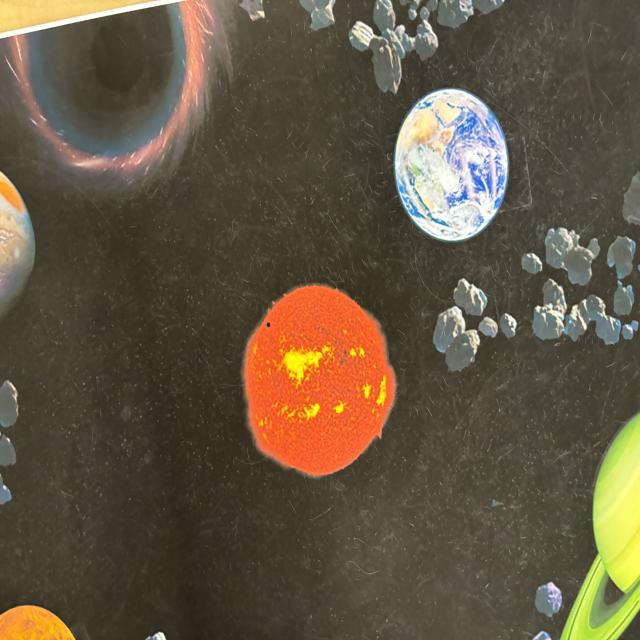Asteroids: (434, 169, 639, 370), (237, 0, 529, 86)
Black Hole: (23, 0, 202, 182)
Earth: (393, 84, 513, 247)
Jupiter: (0, 166, 42, 321)
Saturn: (558, 408, 640, 640)
Sun: (244, 281, 404, 475)
Venus: (0, 596, 86, 640)
